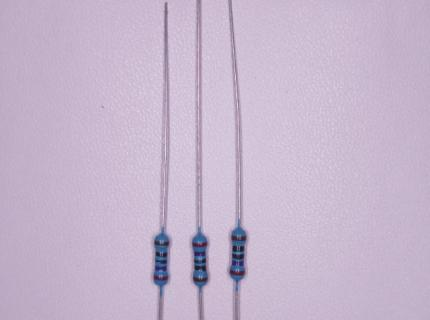Black band: (232, 245, 244, 252), (232, 253, 244, 259), (155, 251, 167, 257), (195, 265, 206, 271), (195, 258, 206, 263), (155, 260, 167, 264)
Brown band: (193, 276, 208, 282), (231, 235, 246, 241), (154, 241, 169, 246)
Red band: (230, 270, 245, 275), (154, 275, 168, 280), (193, 242, 207, 247)
Violet band: (155, 265, 167, 271), (232, 260, 244, 266), (194, 251, 206, 256)
